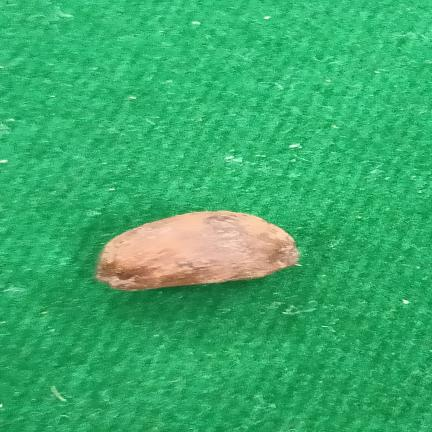full-black: (96, 211, 299, 291)
